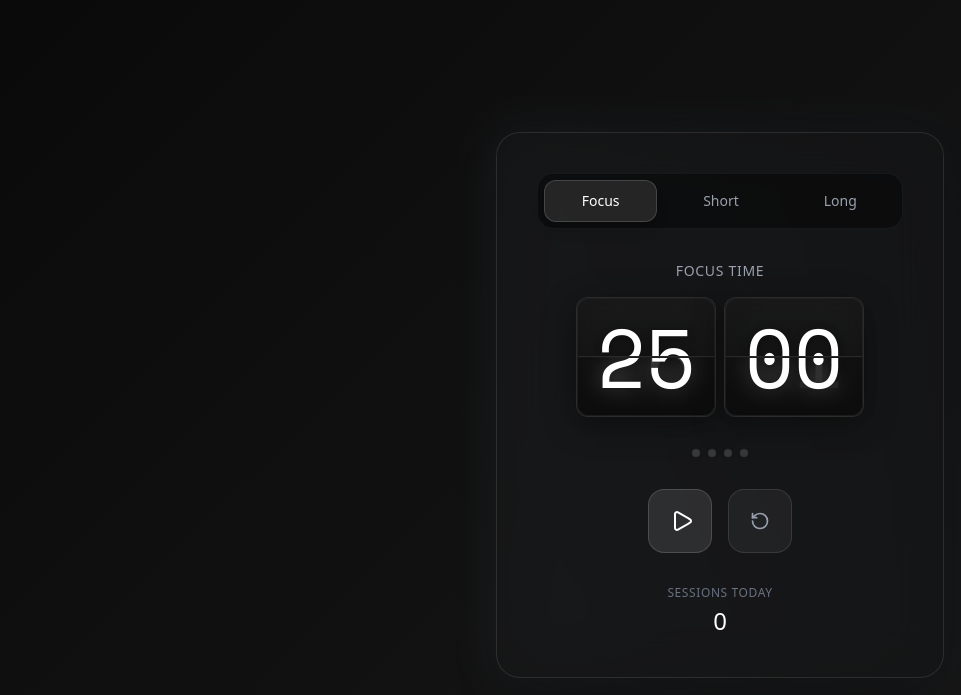
Feature: Pomodoro Timer › Scenario: Completing a break session › Given a Break timer is running, When the timer reaches 00:00, Then the app should notify the user
The width and height of the screenshot is (961, 695).
Step 1. Click the button "Short" → coordinates (721, 201), box top-left (665, 180), bottom-right (777, 222)
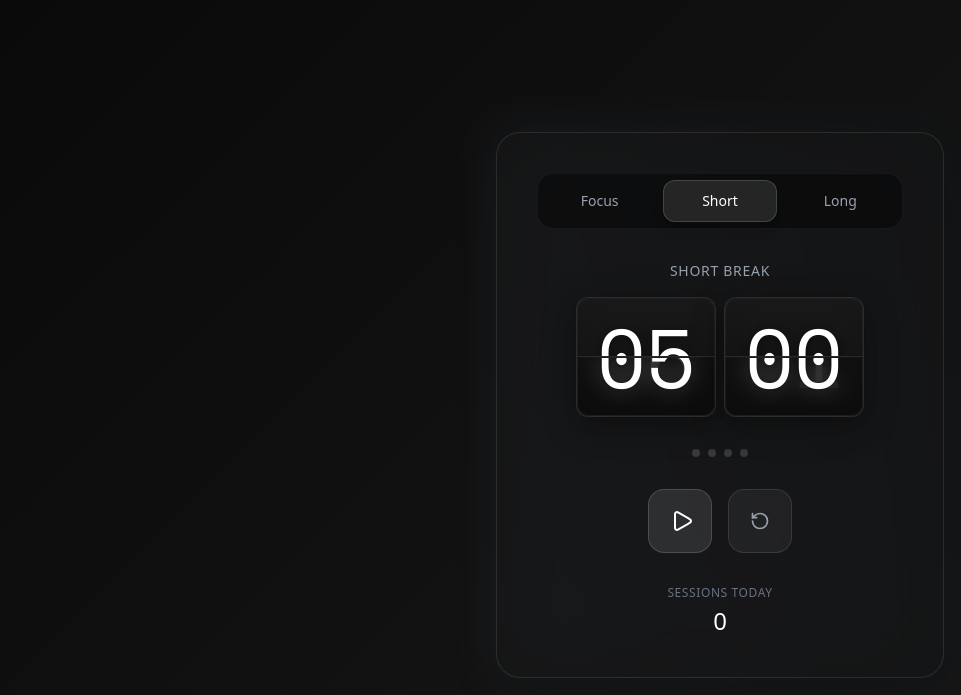
Check: the element named "seconds: 00" is shown, box top-left (724, 297), bottom-right (864, 417)
Check: the element named "minutes: 05" is shown, box top-left (576, 297), bottom-right (716, 417)
Step 2. Click the button named "play" → coordinates (680, 521), box top-left (648, 489), bottom-right (712, 553)
Wait 300000 ms
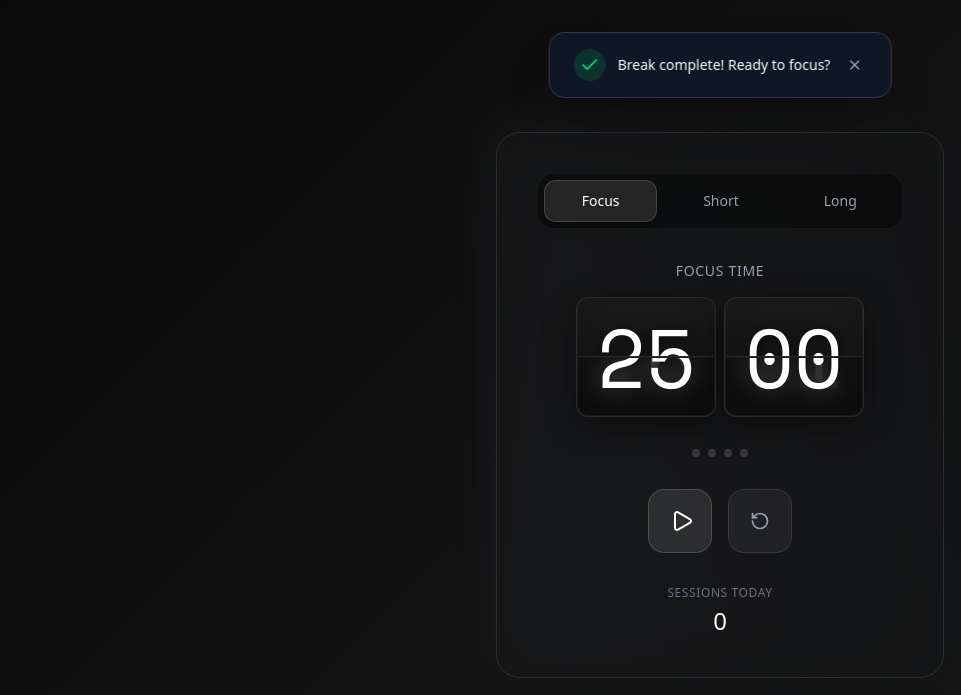
Check: the message shows "Break complete", box top-left (618, 55), bottom-right (830, 74)
